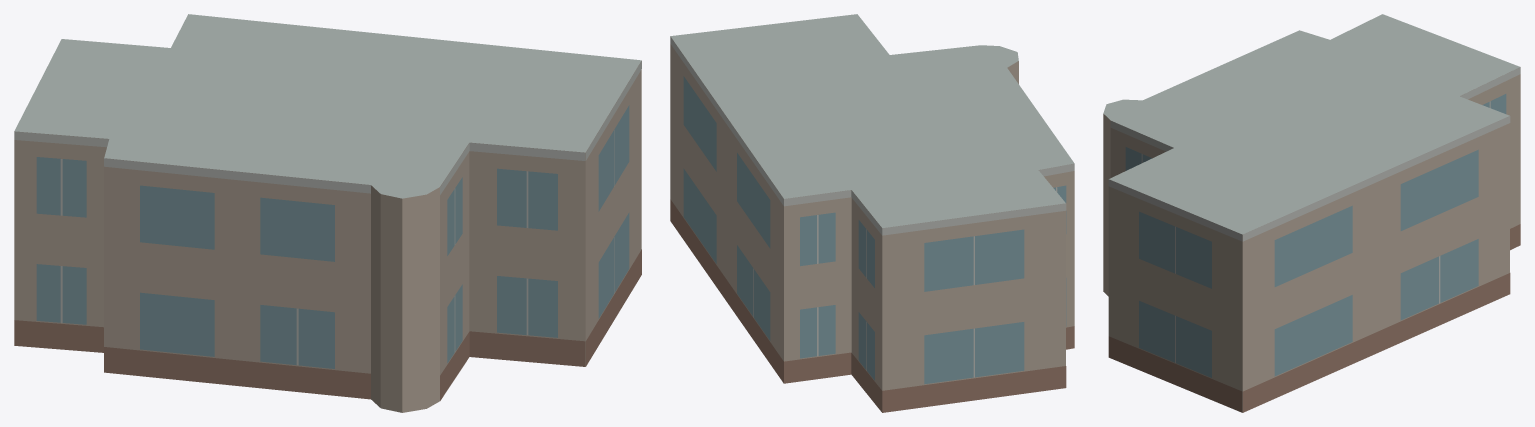
The model's file is survey-upis-32849214.glb.
3 views of the same model, side by side, from view 1: azimuth 30°, elevation 25°; view 2: azimuth 150°, elevation 25°; view 3: azimuth 270°, elevation 25° (orthographic). The views are drawn at different scales.
Parts seen in each view (by area): view 1: survey-upis-32849214.tmp; view 2: survey-upis-32849214.tmp; view 3: survey-upis-32849214.tmp.
Part boxes in pixels (x1,y1,x2,y2): survey-upis-32849214.tmp: [14, 14, 641, 412]; survey-upis-32849214.tmp: [670, 14, 1074, 412]; survey-upis-32849214.tmp: [1103, 14, 1520, 412].
Bounding box in the file's own units: 16.2 × 6.1 × 12.94.
